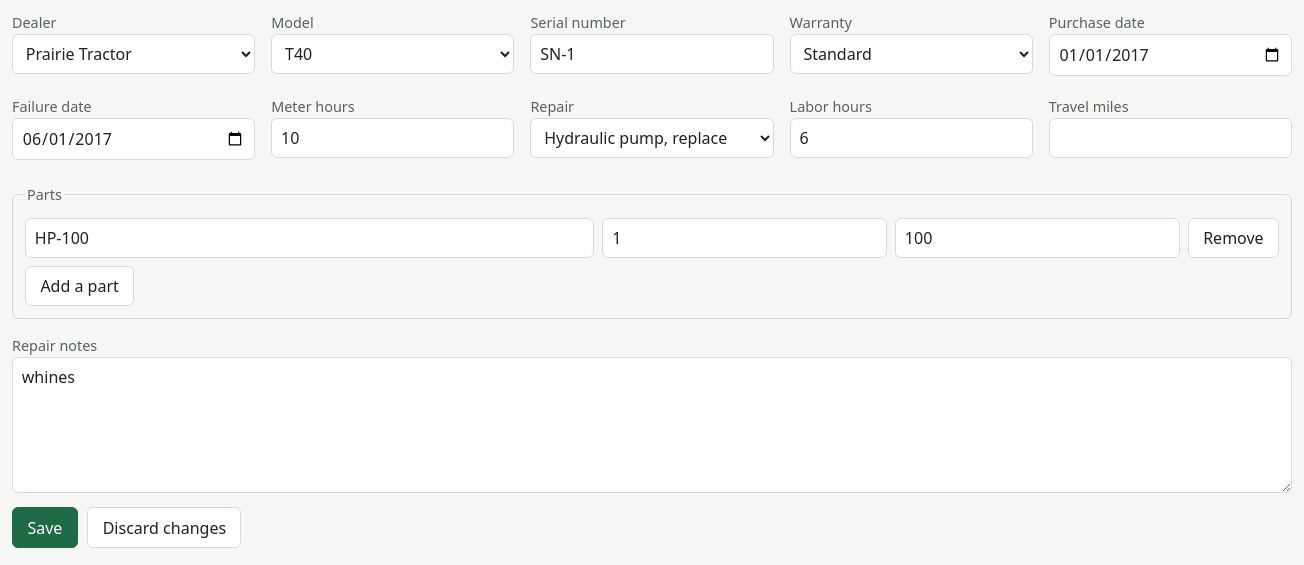
two people editing › shows both versions and saves mine over theirs only when asked
This screenshot has width=1304, height=565.
Later steps or results of the test are not shown.
Replace the text in the number field labelled "Labor hours" with "5" at (911, 138), box [790,118,1033,158]
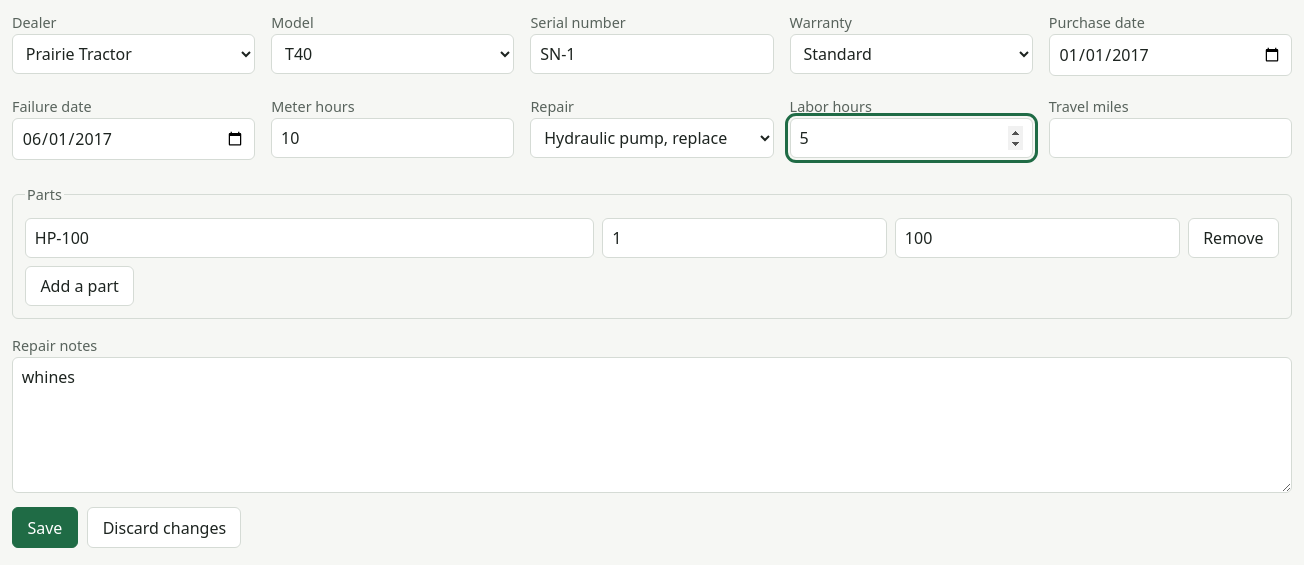
Click the button "Save".
click(45, 528)  # box [12,507,78,548]
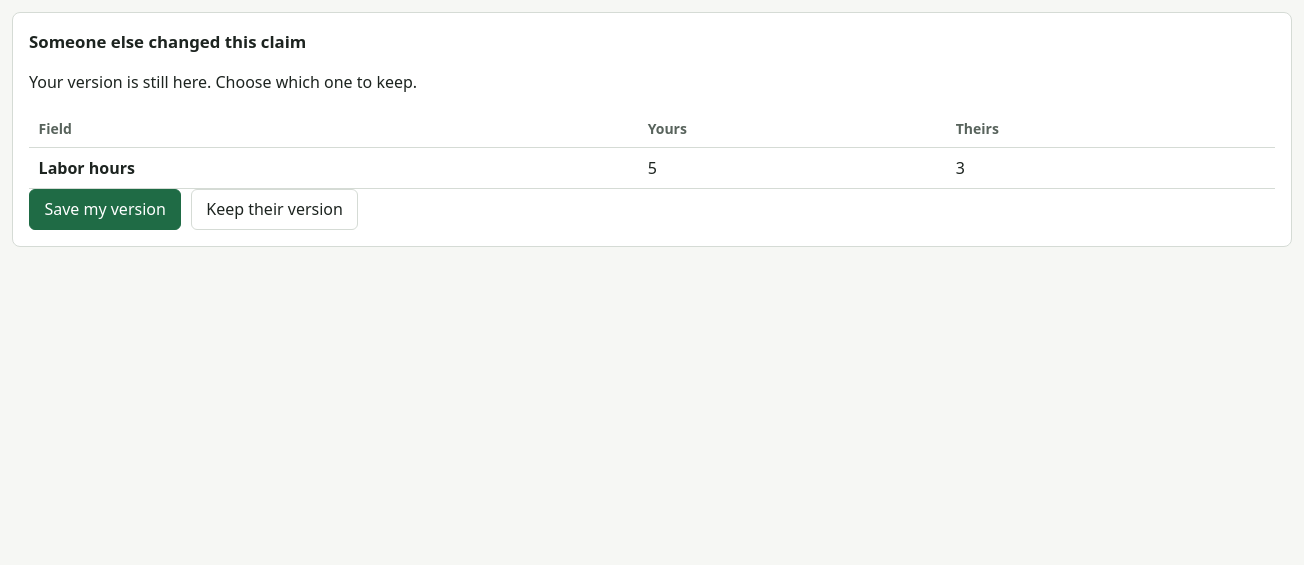
expect the cell "5" is shown: met, box [638,148,946,189]
expect the cell "3" is shown: met, box [946,148,1275,189]
